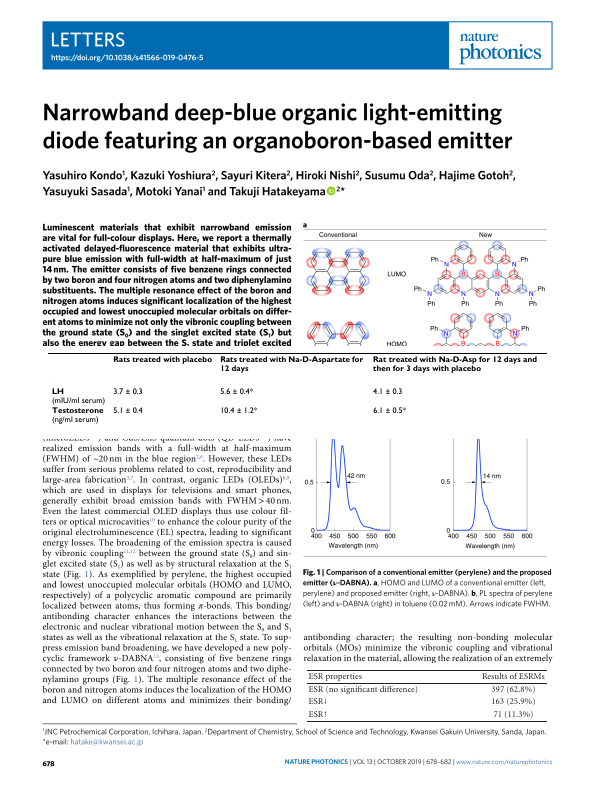borderless: (46, 351, 548, 433), (305, 668, 547, 721)
cell: (372, 356, 537, 374), (219, 356, 364, 374), (307, 685, 419, 695), (50, 387, 106, 406), (50, 407, 104, 425), (112, 356, 213, 365), (481, 672, 546, 682), (307, 672, 363, 682), (492, 709, 534, 720), (490, 685, 536, 695), (490, 697, 536, 707), (219, 406, 258, 416), (219, 387, 254, 397), (372, 406, 406, 416), (112, 387, 143, 397), (372, 387, 403, 397), (112, 406, 143, 416), (307, 709, 329, 720), (307, 697, 329, 707)
